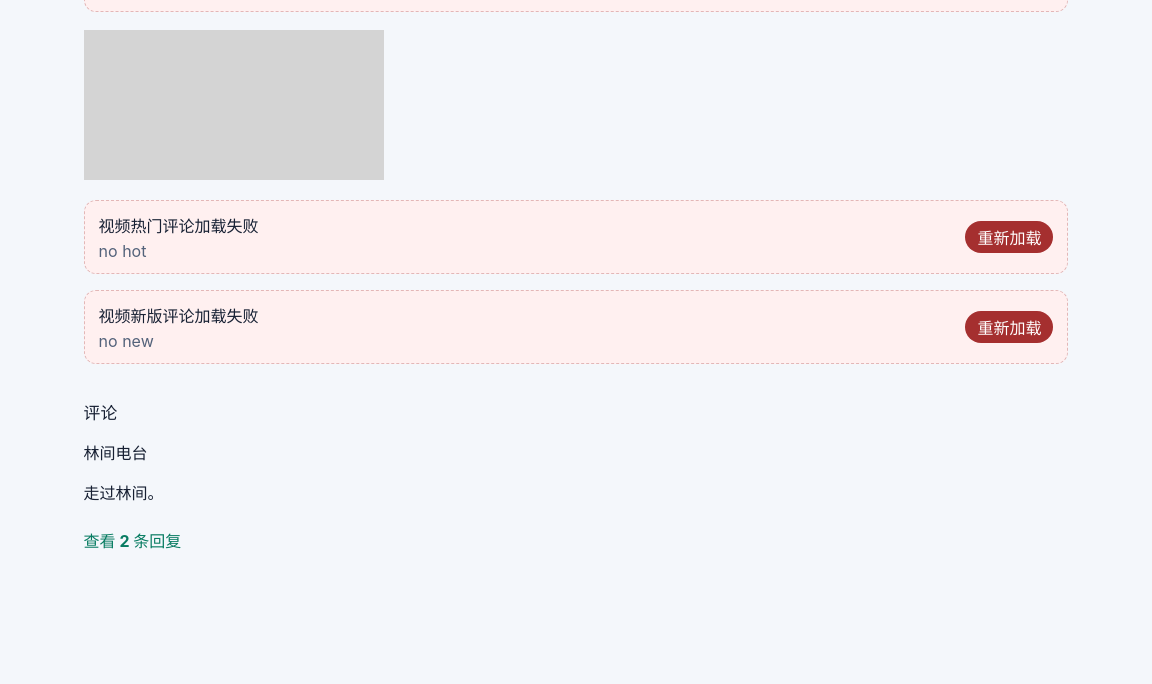
VideoDetailView › expands video comment floors
(page scrolled)
Click the button with test id "video-comments-floor": (132, 540) [84, 528, 181, 552]
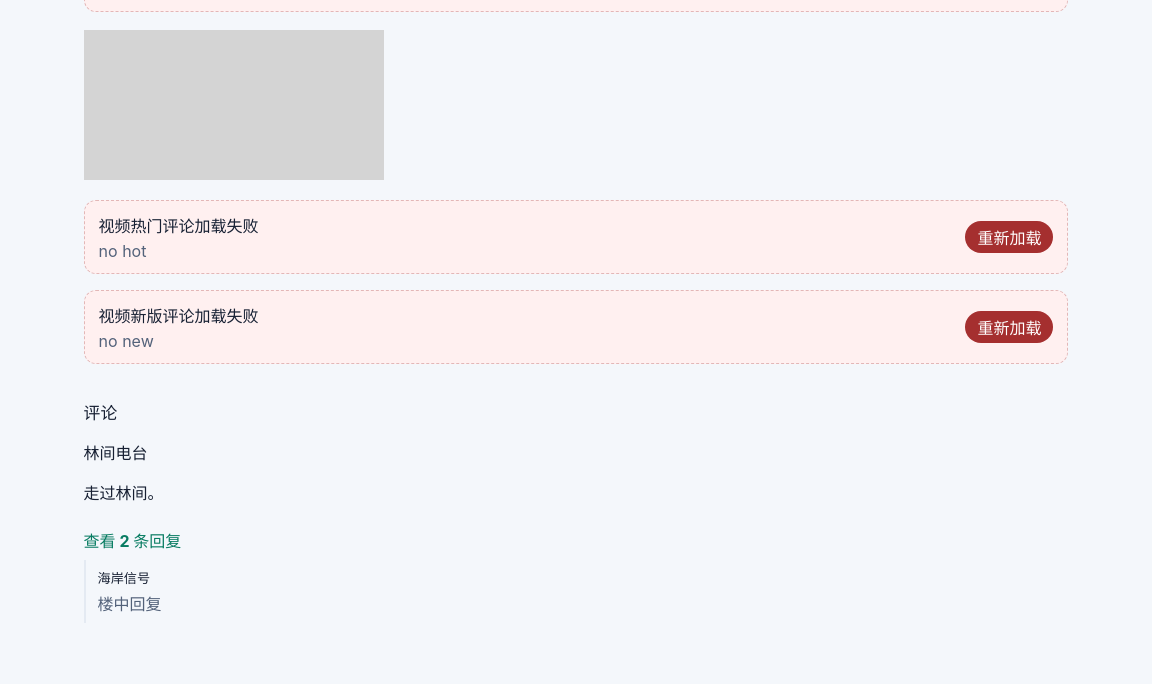
Now the element with test id "video-comments" shows "楼中回复", box [98, 594, 162, 614]
